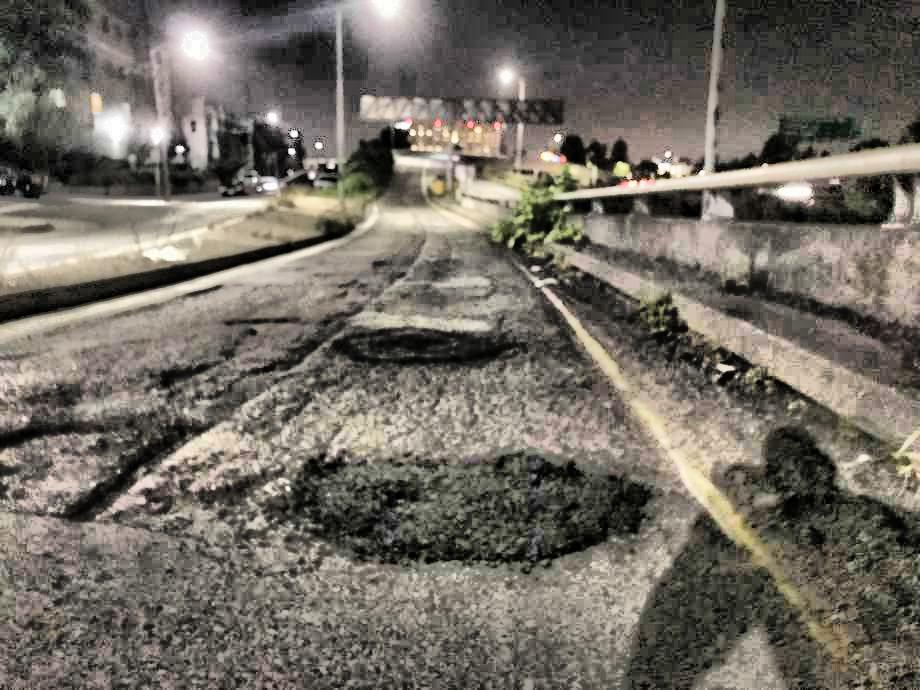pothole: (292, 445, 654, 575), (340, 324, 492, 368), (219, 311, 305, 343)
